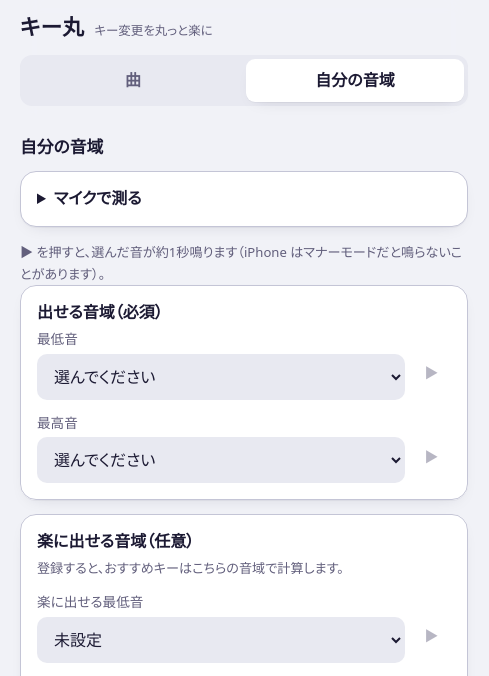
Test case: 自分の音域の登録（②） › 入力に問題があれば保存しない
The width and height of the screenshot is (489, 676).
Select "mid2G（G4）" in the dropdown labelled "最低音" at (221, 377), box [37,354,405,400]
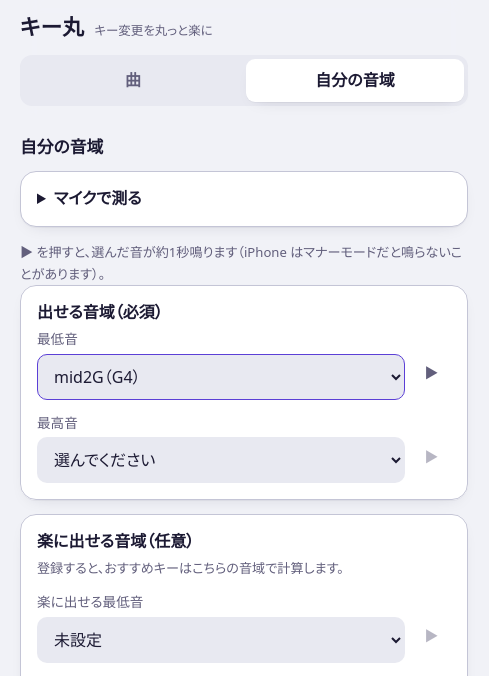
Select "lowG（G2）" in the dropdown labelled "最高音" at (221, 460), box [37,437,405,483]
(page scrolled)
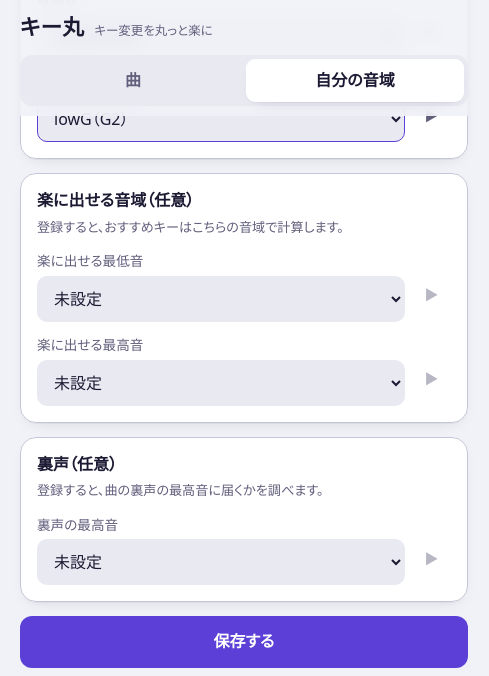
Click the button "保存する".
click(244, 642)  # box [20,616,468,668]
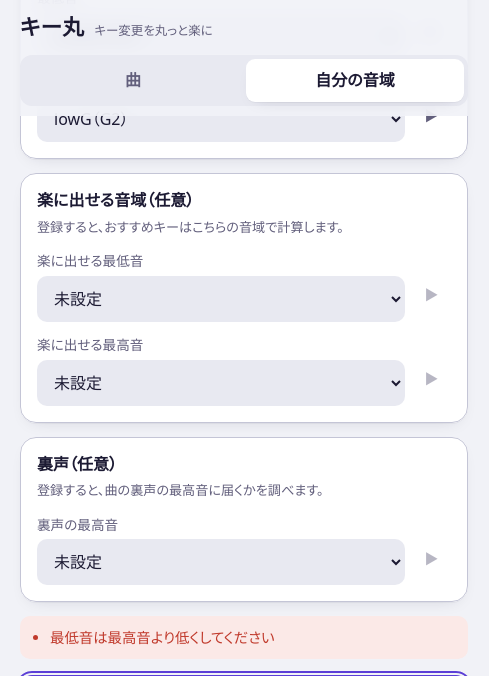
Now the message reads "最低音は最高音より低くしてください", box [50,628,275,647]
